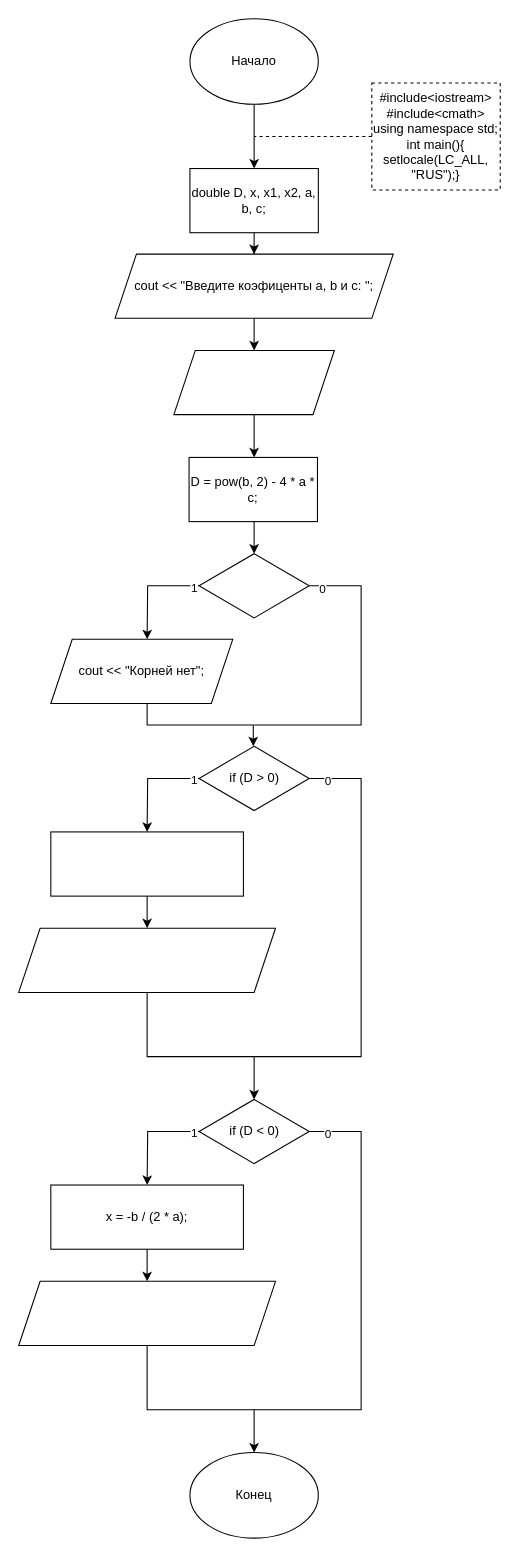
The diagram is 519 pixels wide and 1557 high, and some of its shapes have lost their labels. Here are the shapes that lost their labels. From the top down, the centre of each, then its label:
the point at 253,382: cin >> a >> b >> c;
the point at 253,585: if (D == 0)
the point at 146,863: x1 = (-b - sqrt(D)) / (2 * a); x2 = (-b + sqrt(D)) / (2 * a);
the point at 147,959: cout << "x1 = " << x1 << " x2 = " << x2;
the point at 147,1313: cout << "x = " << x;
